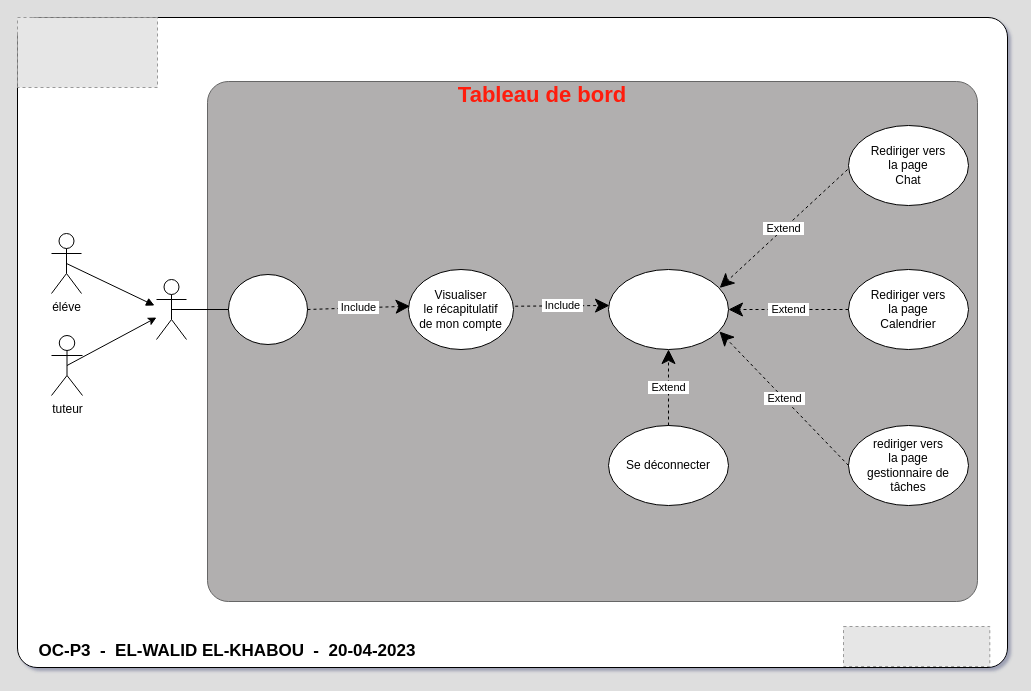
This 1031x691 diagram has some shape labels left out. Grey dashed boxes stand in for pictures. The shapes that lost their labels are listed below. From the top down, each one's box as (x1, y1, x2, y2) in pixels, then its label:
(156, 278, 186, 340): utilisateur
(228, 274, 308, 344): Se connecter
(608, 268, 728, 350): Rediriger vers mon tableau de bord
